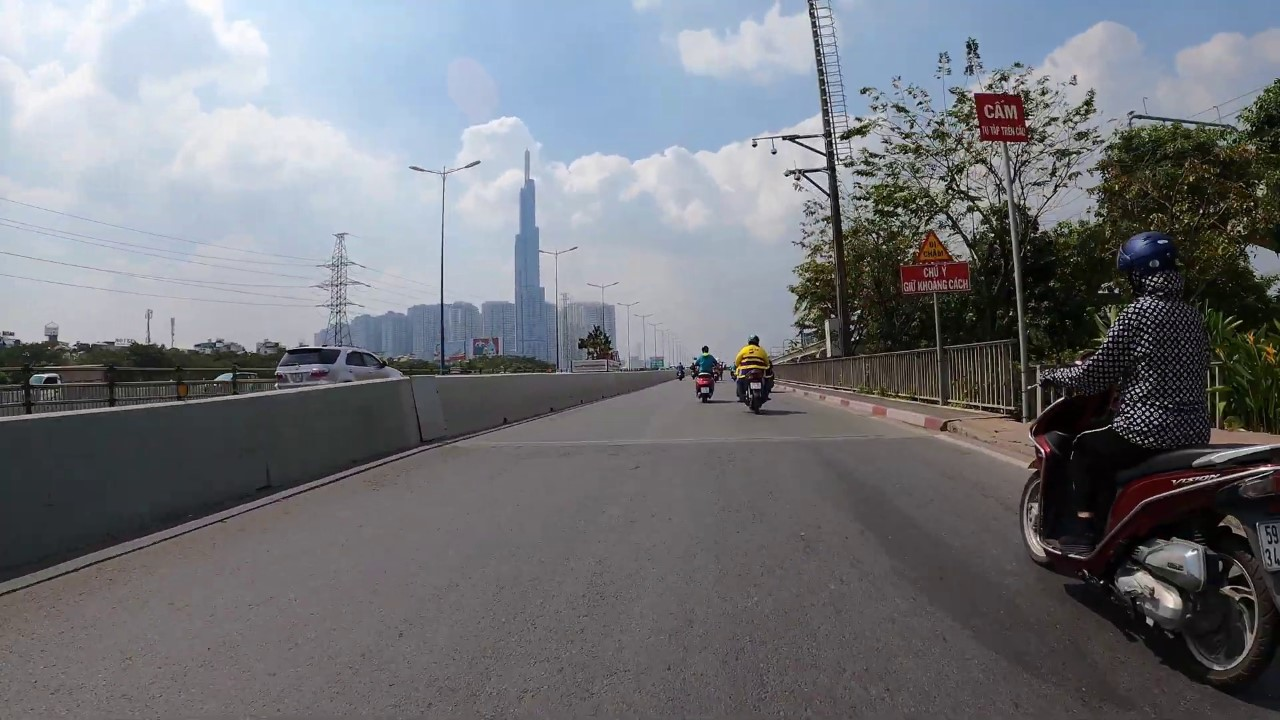di_cham: (915, 229, 953, 264)
